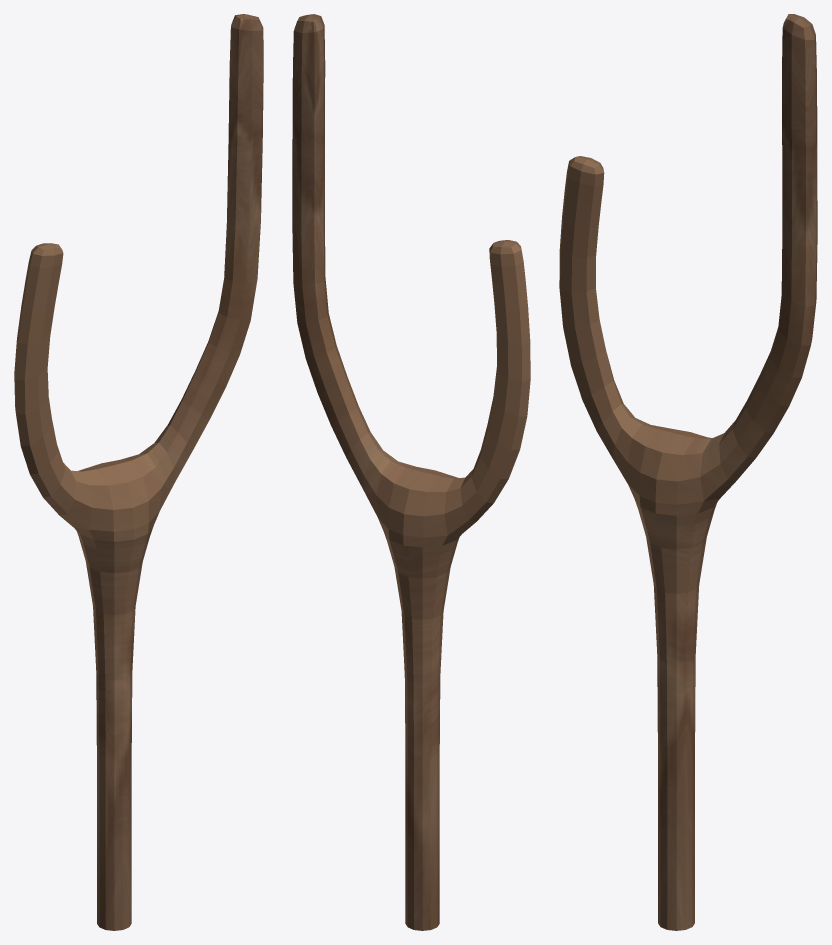
File: FakeItemStick2PrehistoricPuzzle1.fbx
The picture shows the model from 3 angles, left to right: view 1: azimuth 30°, elevation 25°; view 2: azimuth 150°, elevation 25°; view 3: azimuth 330°, elevation 25°; orthographic projection. The views are drawn at different scales.
Visible parts, largest first — view 1: Cylinder; view 2: Cylinder; view 3: Cylinder.
Part boxes in pixels (x1,y1,x2,y2): Cylinder: [14, 14, 263, 930]; Cylinder: [292, 14, 530, 930]; Cylinder: [559, 14, 817, 930].
Bounding box in the file's own units: 298 × 1032 × 83.11.
1 material, 1 textured.
